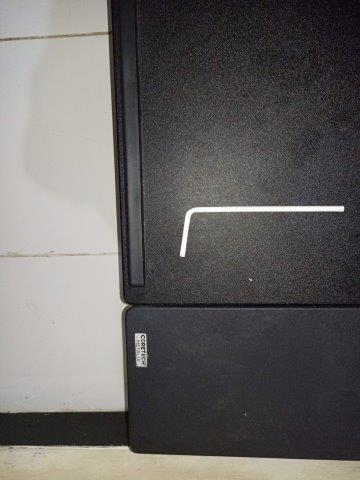sedotan: (180, 206, 346, 256)
